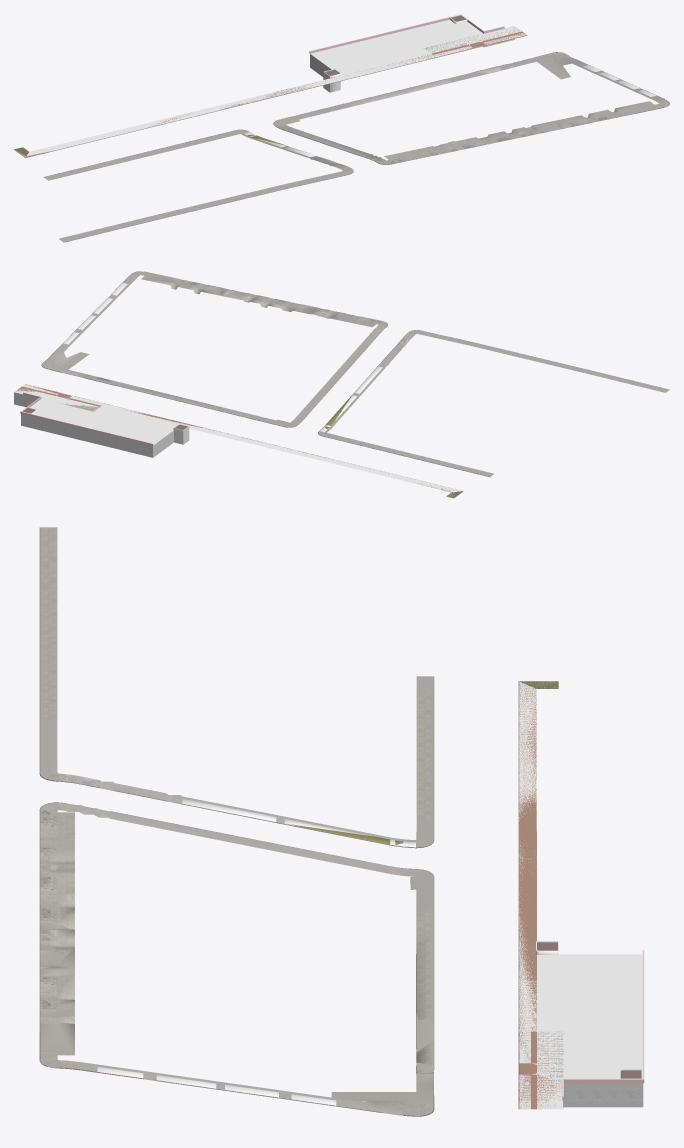
The model's file is sidewalk_gasstation.dae.
The picture shows the model from 3 angles, top to bottom: view 1: azimuth 30°, elevation 25°; view 2: azimuth 150°, elevation 25°; view 3: azimuth 270°, elevation 25°; orthographic projection. The views are drawn at different scales.
Visible parts, largest first — view 1: Colmesh-1, sidewalk_gasstation_a2000; view 2: Colmesh-1, sidewalk_gasstation_a2000; view 3: Colmesh-1, sidewalk_gasstation_a2000.
Part boxes in pixels (x1,y1,x2,y2): Colmesh-1: (14,14,669,242); sidewalk_gasstation_a2000: (16,28,669,218); Colmesh-1: (14,271,669,498); sidewalk_gasstation_a2000: (16,271,494,497); Colmesh-1: (39,527,644,1116); sidewalk_gasstation_a2000: (40,607,563,1115).
Size of the model in its own units: 292 by 143 by 24.65.
